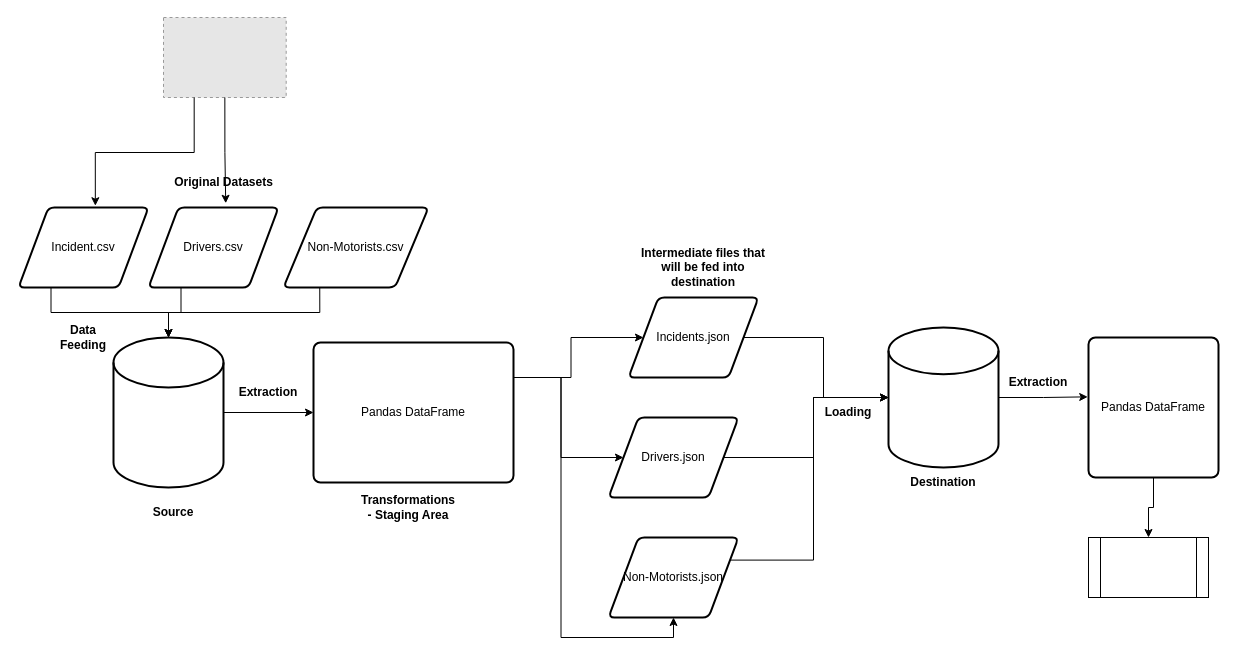
The diagram is 1236 pixels wide and 663 high, and some of its shapes have lost their labels. Grey dashed boxes stand in for pictures. Each missing label, with the box of its shape:
MongoDB Montgomery Database with 3 collections for each data frame: (887, 326, 999, 468)
MySQL Montgomery Dataset with 3 tables for each file: (112, 336, 224, 488)
Visualizations for all 3 datasets: (1088, 536, 1208, 598)
